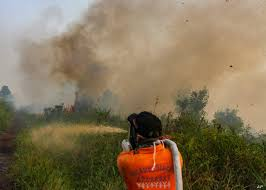smoke: (49, 19, 257, 107)
